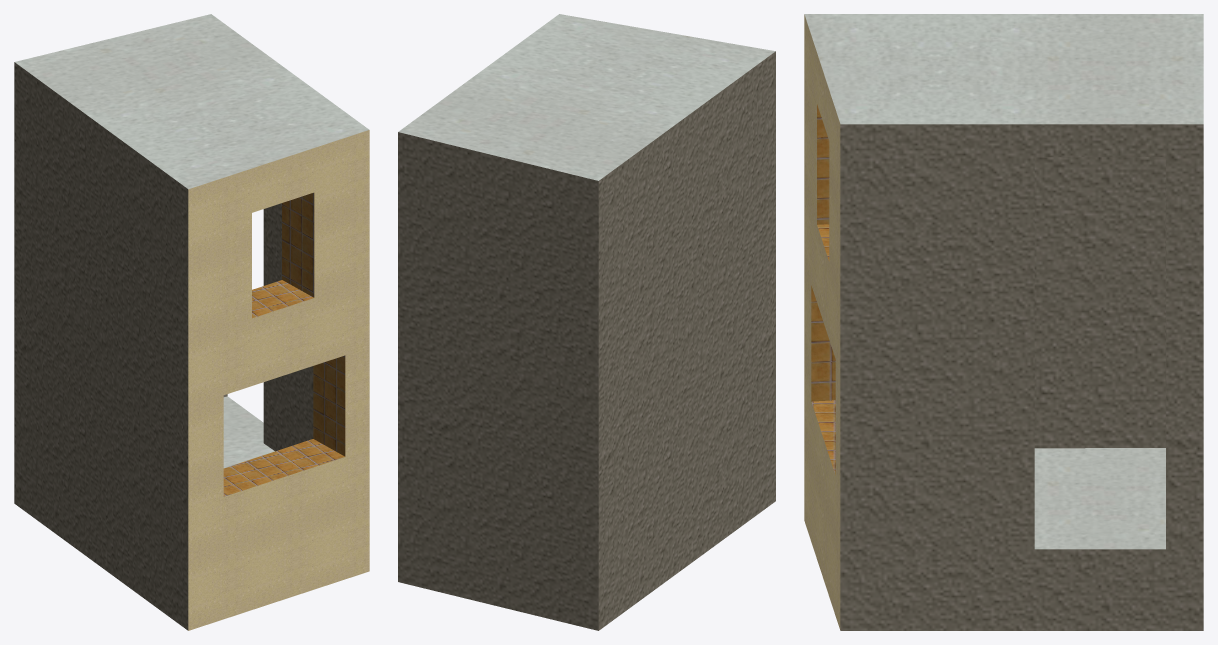
Rendered from salle1_rdc.obj.
3 views of the same model, side by side, from view 1: azimuth 30°, elevation 25°; view 2: azimuth 150°, elevation 25°; view 3: azimuth 270°, elevation 25° (orthographic). The views are drawn at different scales.
Visible parts, largest first — view 1: Salle1_RDC_Cube.006; view 2: Salle1_RDC_Cube.006; view 3: Salle1_RDC_Cube.006.
Part boxes in pixels (x1,y1,x2,y2): Salle1_RDC_Cube.006: (14, 14, 369, 630); Salle1_RDC_Cube.006: (398, 14, 775, 630); Salle1_RDC_Cube.006: (804, 14, 1203, 630).
Size of the model in its own units: 1.45 by 3.1 by 2.21.
